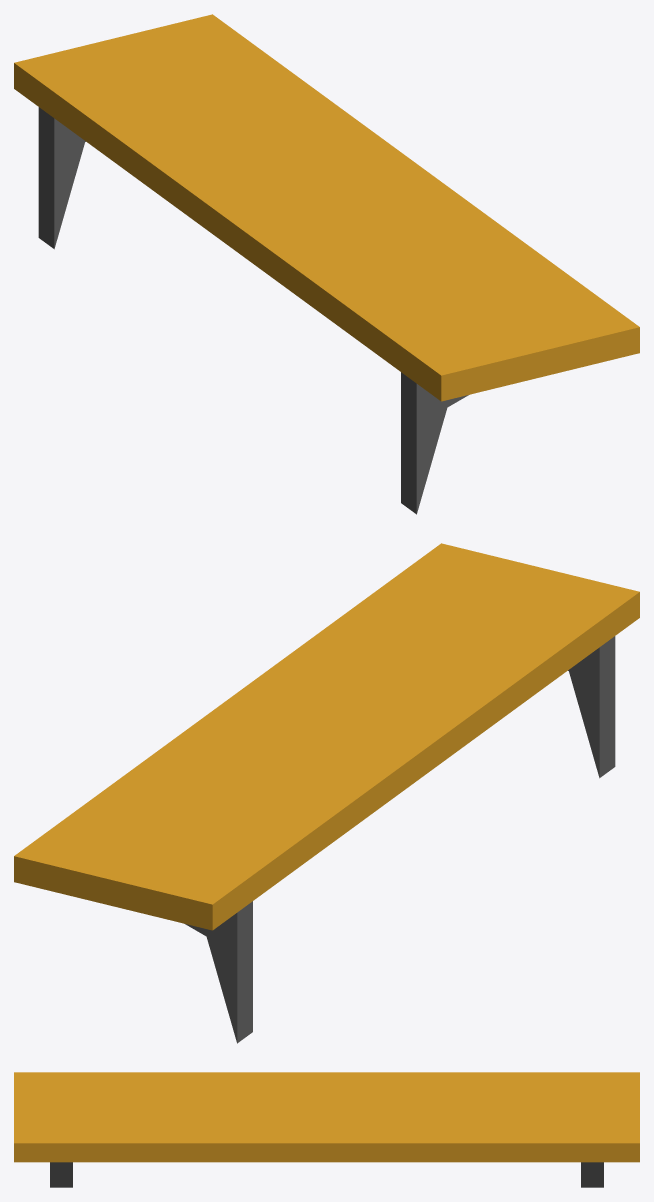
The model's file is shelf.fbx.
3 views of the same model, one above another, from view 1: azimuth 30°, elevation 25°; view 2: azimuth 150°, elevation 25°; view 3: azimuth 270°, elevation 25° (orthographic). The views are drawn at different scales.
Visible parts, largest first — view 1: Cube, Cube.001; view 2: Cube, Cube.001; view 3: Cube, Cube.001.
Boxes of the visible parts, box(x1,y1,x2,y2) form: Cube: box(14, 14, 639, 401); Cube.001: box(38, 107, 469, 514); Cube: box(14, 543, 639, 930); Cube.001: box(184, 636, 615, 1043); Cube: box(14, 1072, 639, 1162); Cube.001: box(50, 1162, 603, 1187).
Bounding box in the file's own units: 317 × 239 × 1179.
2 materials, 2 textured.
